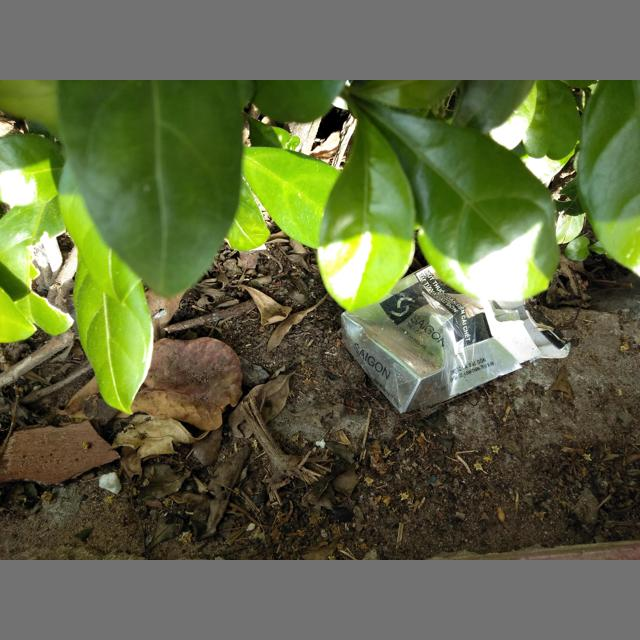litter: (341, 264, 570, 414), (98, 472, 122, 494)
